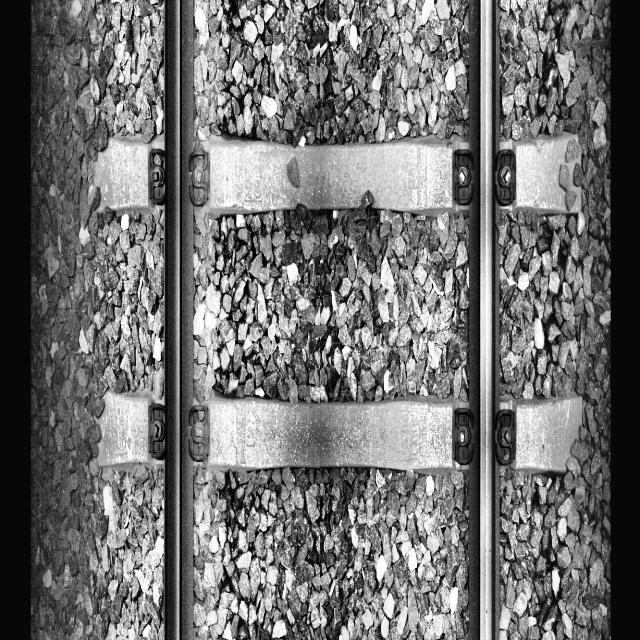Clips: (187, 403, 210, 460), (188, 150, 210, 208), (494, 150, 517, 205), (452, 150, 474, 206), (454, 409, 476, 463), (147, 402, 167, 460), (148, 148, 167, 207), (496, 410, 516, 466)
Sleepers: (94, 388, 583, 471), (93, 137, 582, 213)
